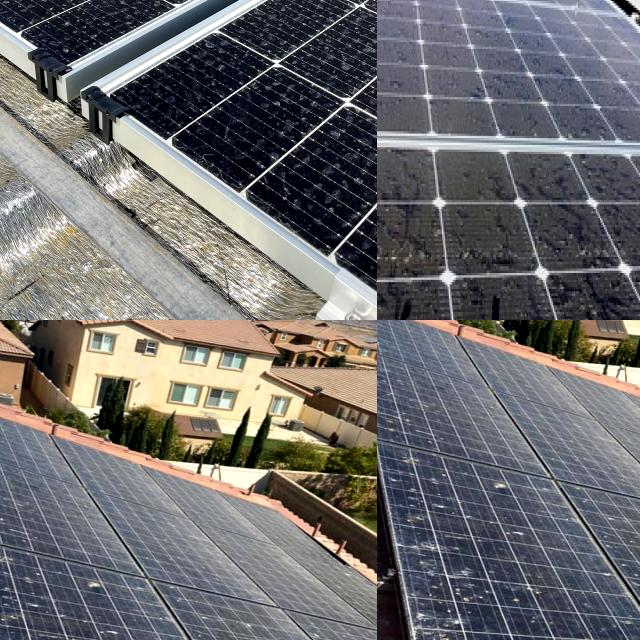bird: (69, 554, 138, 619), (476, 455, 544, 520), (406, 550, 474, 604), (389, 442, 433, 495), (601, 511, 640, 569), (412, 614, 491, 640), (195, 610, 256, 640), (498, 581, 548, 615), (74, 560, 107, 604), (0, 541, 27, 593), (480, 462, 513, 504), (498, 520, 534, 548), (91, 619, 127, 640), (330, 562, 354, 592)
dust: (446, 158, 613, 272), (480, 20, 640, 133), (377, 143, 458, 273), (0, 0, 129, 77), (377, 1, 454, 124), (136, 0, 245, 71), (273, 136, 377, 202), (377, 290, 547, 320), (317, 10, 377, 93), (556, 282, 640, 320), (29, 0, 121, 33)
